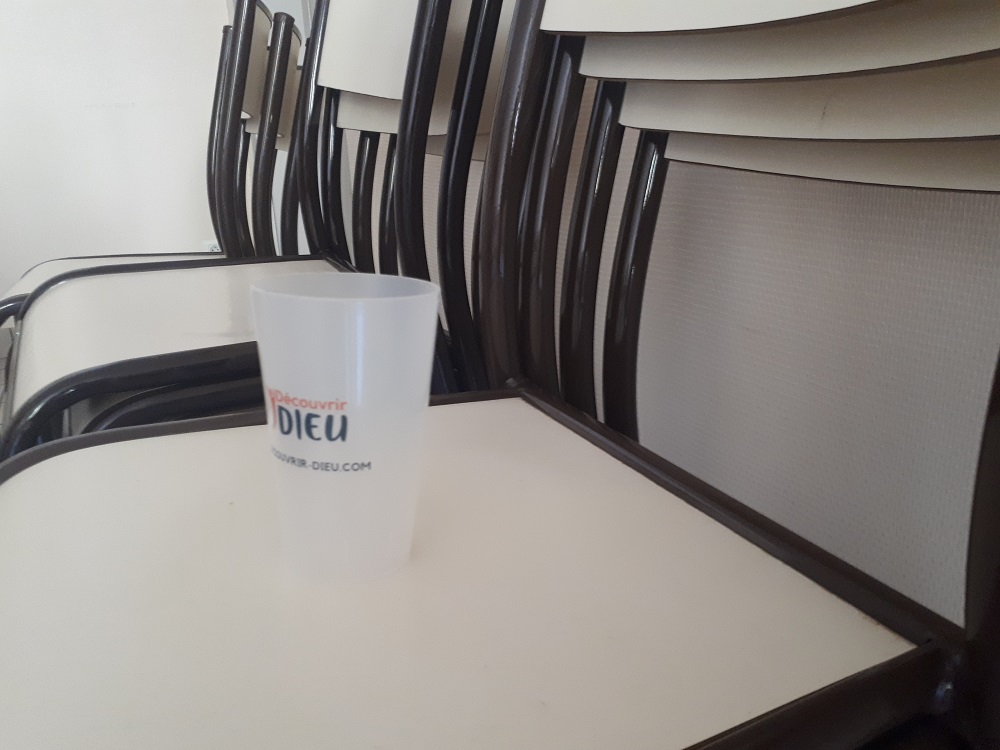ecocup: (246, 267, 445, 591)
